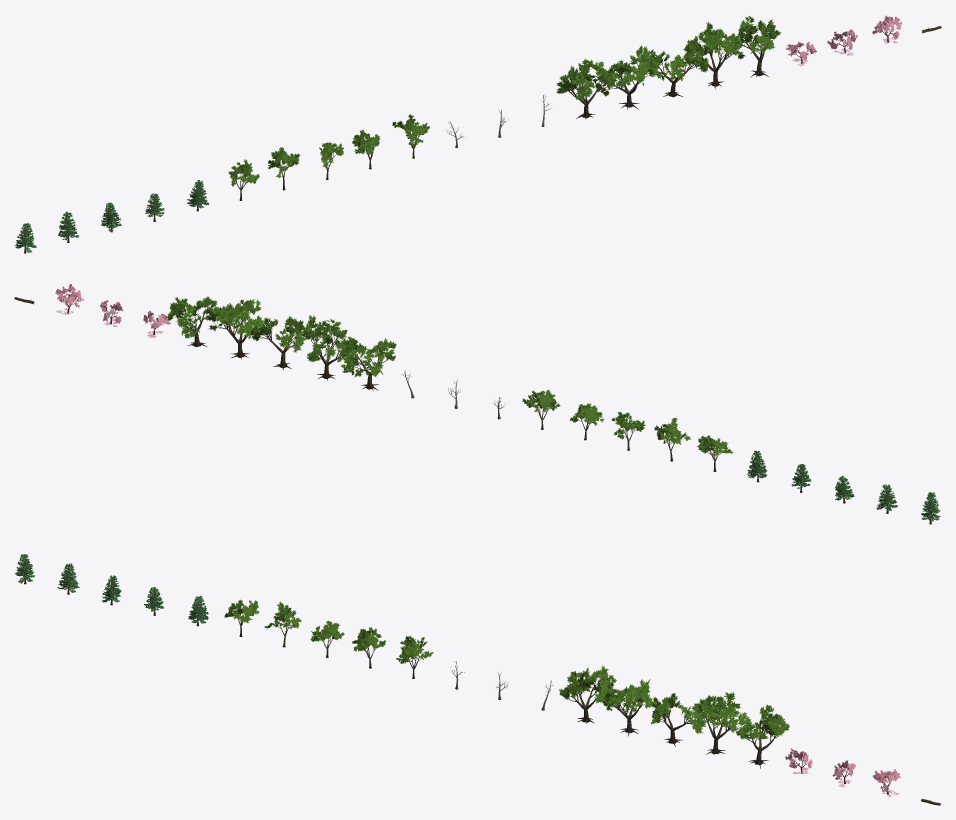
Rendered from trees.glb.
3 views of the same model, one above another, from view 1: azimuth 30°, elevation 25°; view 2: azimuth 150°, elevation 25°; view 3: azimuth 330°, elevation 25° (orthographic).
Parts seen in each view (by area): view 1: TwistedTree_1, TwistedTree_2, TwistedTree_4, TwistedTree_3, TwistedTree_5, CommonTree_5, CommonTree_2, CommonTree_1, CommonTree_4; view 2: TwistedTree_2, TwistedTree_4, TwistedTree_1, TwistedTree_3, TwistedTree_5, CommonTree_5, CommonTree_2, CommonTree_3, CommonTree_1, CommonTree_4; view 3: TwistedTree_4, TwistedTree_1, TwistedTree_2, TwistedTree_5, TwistedTree_3, CommonTree_5, CommonTree_4, CommonTree_2, CommonTree_1.
Part boxes in pixels (bbox=[...]): TwistedTree_1: bbox=[556, 58, 617, 119]; TwistedTree_2: bbox=[594, 45, 662, 109]; TwistedTree_4: bbox=[683, 21, 745, 88]; TwistedTree_3: bbox=[647, 49, 709, 97]; TwistedTree_5: bbox=[735, 16, 781, 77]; CommonTree_5: bbox=[392, 114, 429, 158]; CommonTree_2: bbox=[268, 147, 299, 190]; CommonTree_1: bbox=[228, 159, 259, 200]; CommonTree_4: bbox=[352, 130, 380, 169]; TwistedTree_2: bbox=[298, 315, 358, 380]; TwistedTree_4: bbox=[204, 299, 264, 359]; TwistedTree_1: bbox=[339, 336, 396, 390]; TwistedTree_3: bbox=[250, 315, 305, 370]; TwistedTree_5: bbox=[167, 296, 218, 346]; CommonTree_5: bbox=[522, 389, 560, 429]; CommonTree_2: bbox=[654, 418, 690, 461]; CommonTree_3: bbox=[611, 412, 645, 450]; CommonTree_1: bbox=[697, 435, 732, 471]; CommonTree_4: bbox=[570, 403, 604, 440]; TwistedTree_4: bbox=[691, 692, 751, 754]; TwistedTree_1: bbox=[559, 665, 616, 723]; TwistedTree_2: bbox=[598, 679, 657, 736]; TwistedTree_5: bbox=[736, 704, 789, 768]; TwistedTree_3: bbox=[650, 693, 705, 746]; CommonTree_5: bbox=[396, 636, 433, 678]; CommonTree_4: bbox=[352, 627, 385, 668]; CommonTree_2: bbox=[264, 601, 301, 647]; CommonTree_1: bbox=[224, 599, 259, 636].
Size of what is drawn, in the model's own units: 258 by 16.16 by 17.42.
Materials: 10 (10 with a texture image).
